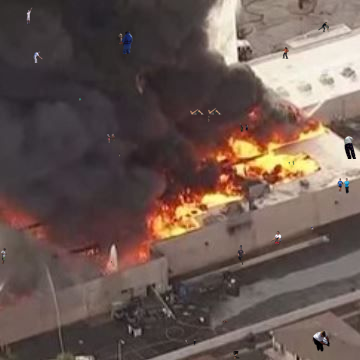Human: (112, 31, 133, 54), (312, 331, 332, 354), (344, 136, 357, 159), (189, 108, 222, 115), (337, 178, 350, 194), (270, 231, 282, 248), (237, 245, 247, 265), (318, 22, 331, 32), (26, 7, 33, 25), (33, 51, 43, 63), (182, 339, 199, 346), (1, 248, 7, 264), (281, 47, 289, 59), (229, 351, 240, 359), (239, 123, 248, 132), (107, 133, 115, 143), (288, 161, 296, 165), (221, 319, 228, 323), (310, 226, 314, 230), (208, 116, 210, 122), (79, 98, 82, 101), (119, 153, 120, 157), (38, 135, 39, 139), (111, 261, 112, 263)
